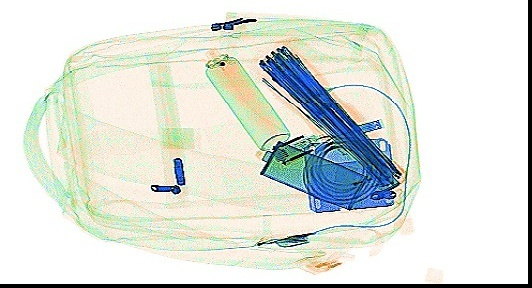pressure: (204, 46, 289, 151)
zippooil: (258, 142, 367, 208)
